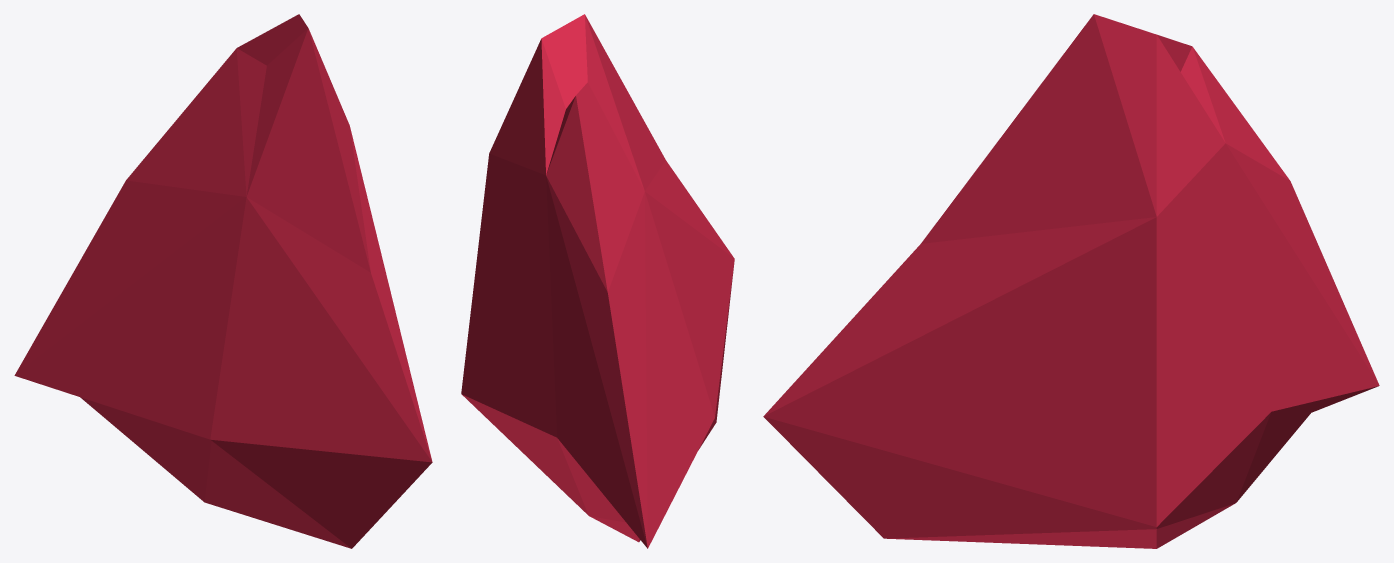
File: SM_Ruby_Chipped.fbx
3 views of the same model, side by side, from view 1: azimuth 30°, elevation 25°; view 2: azimuth 150°, elevation 25°; view 3: azimuth 270°, elevation 25° (orthographic). The views are drawn at different scales.
Visible parts, largest first — view 1: SM_Ruby_Chipped; view 2: SM_Ruby_Chipped; view 3: SM_Ruby_Chipped.
Boxes of the visible parts, bbox=[...] form: SM_Ruby_Chipped: bbox=[14, 14, 432, 548]; SM_Ruby_Chipped: bbox=[461, 14, 734, 548]; SM_Ruby_Chipped: bbox=[763, 14, 1379, 548].
Bounding box in the file's own units: 10.05 × 16.09 × 16.76.
